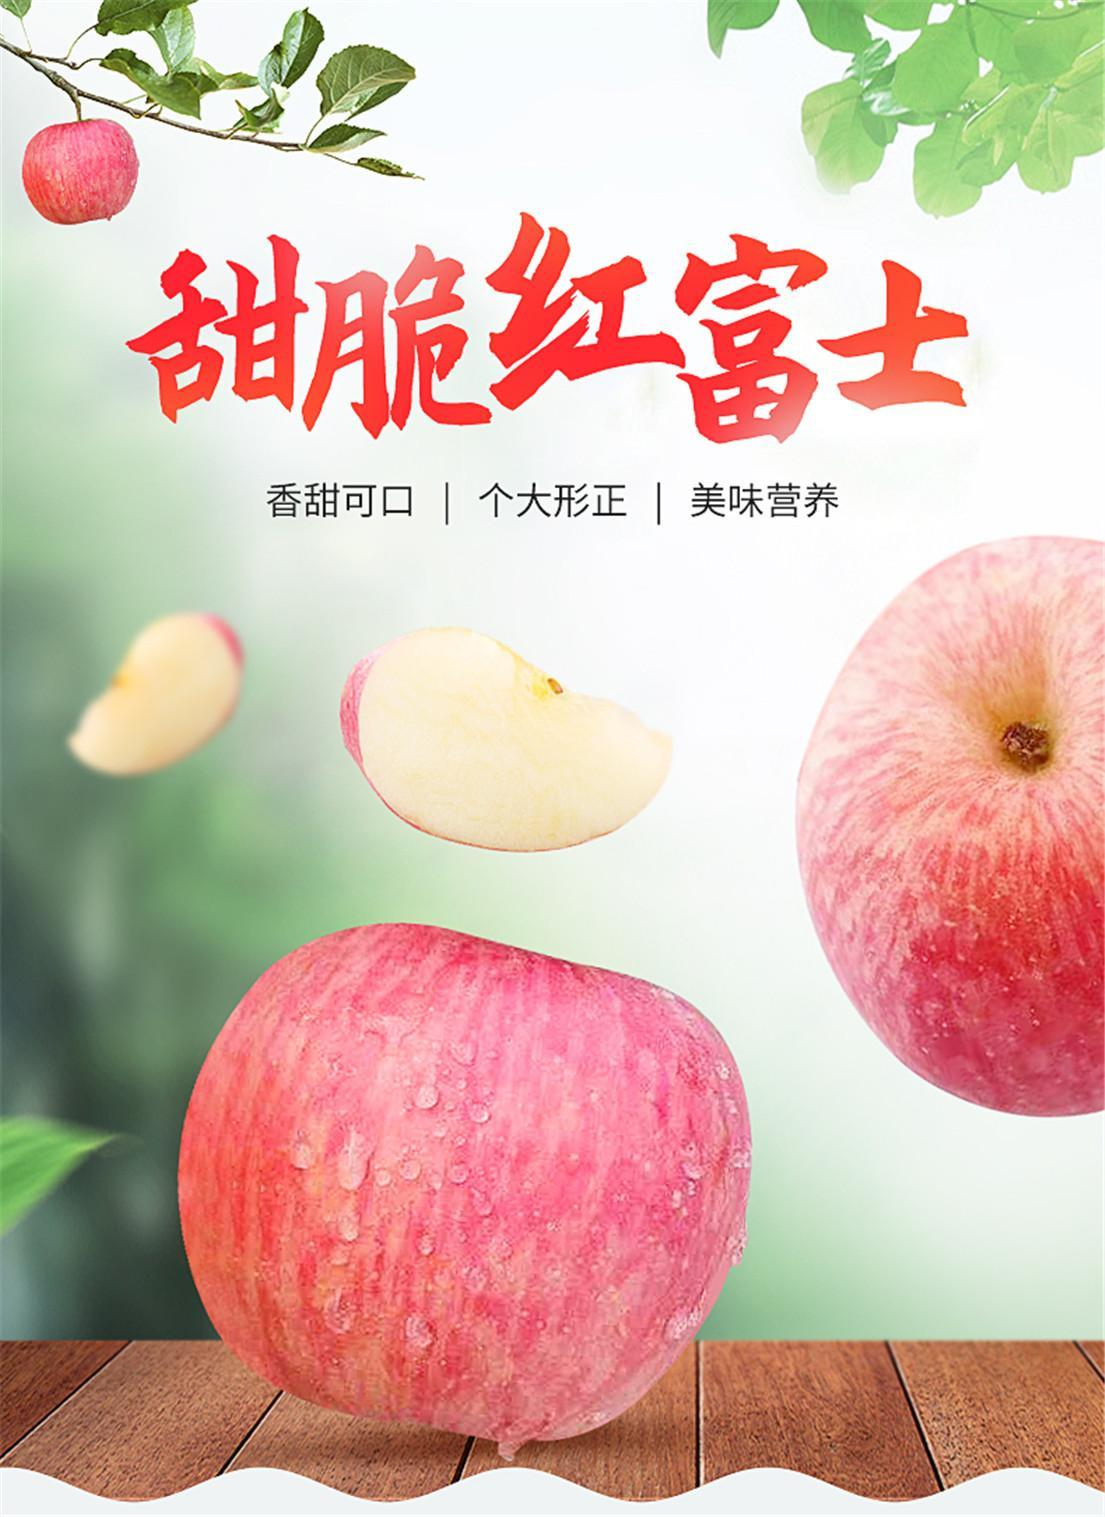apple: (181, 920, 753, 1449), (786, 538, 1099, 1122), (22, 120, 135, 227)
